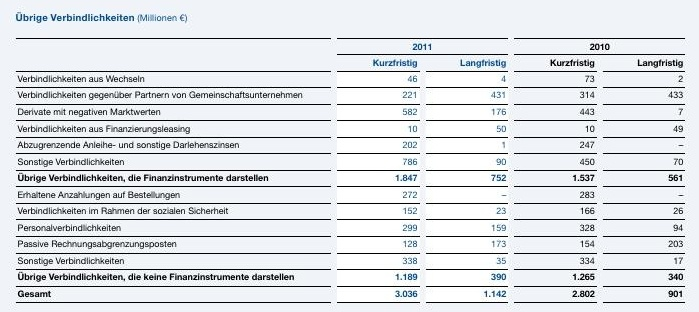table: (0, 0, 699, 312)
